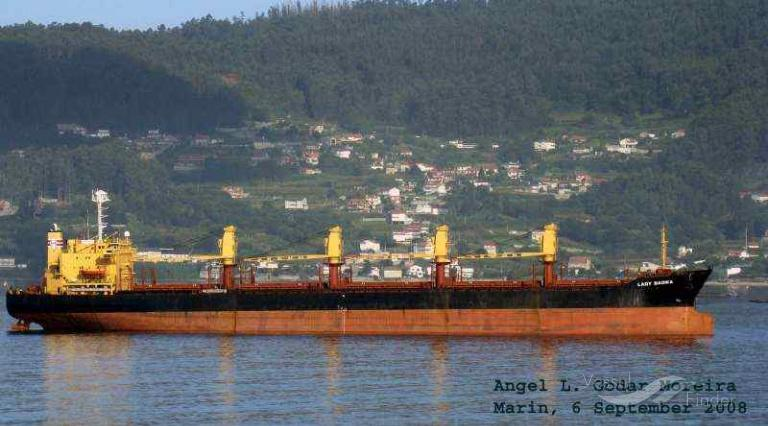OCR: (633, 280, 684, 288)
